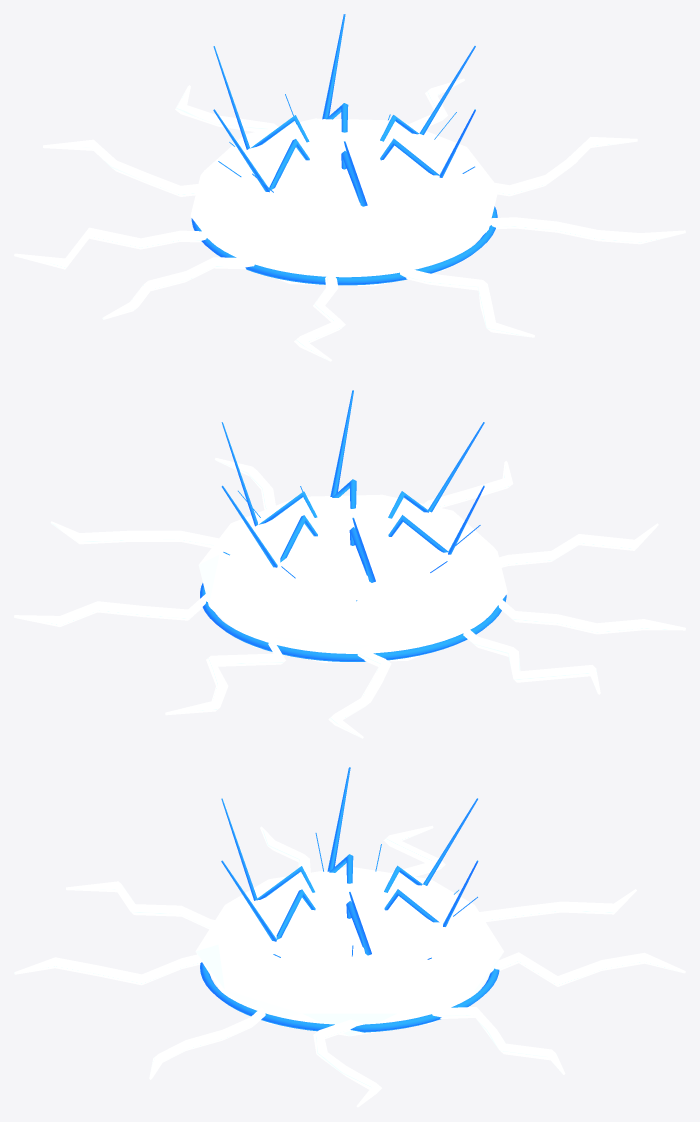
Rendered from impact_components.glb.
The picture shows the model from 3 angles, top to bottom: view 1: azimuth 30°, elevation 25°; view 2: azimuth 150°, elevation 25°; view 3: azimuth 270°, elevation 25°; orthographic projection. The views are drawn at different scales.
Visible parts, largest first — view 1: ImpactCore, GroundArcs, Crown, RadialBurst; view 2: ImpactCore, GroundArcs, Crown, RadialBurst; view 3: ImpactCore, GroundArcs, Crown, RadialBurst.
Part boxes in pixels (x1=…): ImpactCore: x1=190, y1=118, x2=498, y2=286; GroundArcs: x1=14, y1=78, x2=685, y2=361; Crown: x1=213, y1=14, x2=475, y2=206; RadialBurst: x1=191, y1=206, x2=497, y2=285; ImpactCore: x1=198, y1=494, x2=507, y2=662; GroundArcs: x1=14, y1=458, x2=685, y2=738; Crown: x1=221, y1=390, x2=484, y2=582; RadialBurst: x1=200, y1=583, x2=506, y2=661; ImpactCore: x1=195, y1=867, x2=503, y2=1036; GroundArcs: x1=14, y1=825, x2=685, y2=1107; Crown: x1=221, y1=767, x2=478, y2=955; RadialBurst: x1=200, y1=962, x2=499, y2=1032.
Size of the model in its own units: 2.07 by 0.6146 by 2.1.
